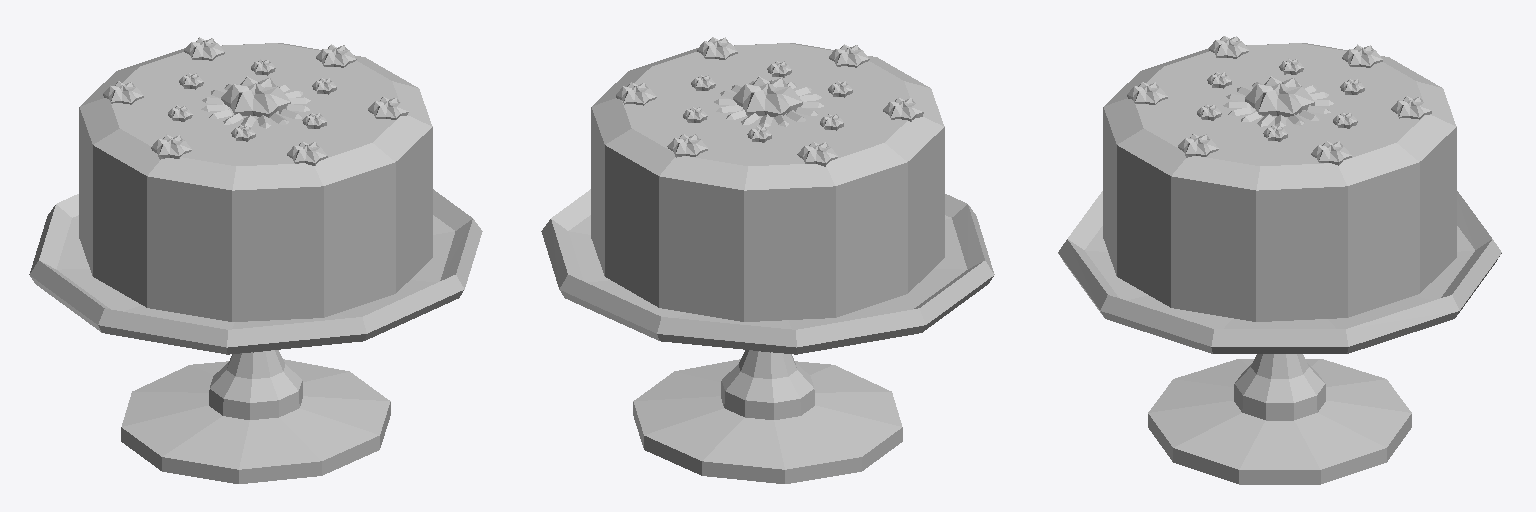
Rendered from cake.obj.
The picture shows the model from 3 angles: view 1: azimuth 30°, elevation 25°; view 2: azimuth 150°, elevation 25°; view 3: azimuth 270°, elevation 25°; orthographic projection.
Parts seen in each view (by area): view 1: Cylinder.007_Cylinder.009; view 2: Cylinder.007_Cylinder.009; view 3: Cylinder.007_Cylinder.009.
Boxes of the visible parts, <box> form: Cylinder.007_Cylinder.009: <box>29,37,482,483</box>; Cylinder.007_Cylinder.009: <box>541,37,994,483</box>; Cylinder.007_Cylinder.009: <box>1058,36,1501,484</box>.
Size of the model in its own units: 0.2849 by 0.2447 by 0.2849.